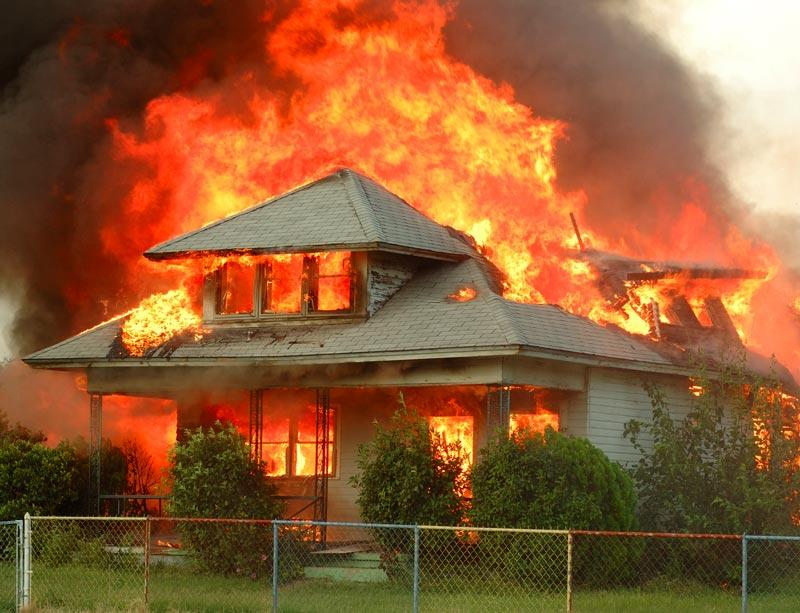Fire: (94, 2, 800, 521)
